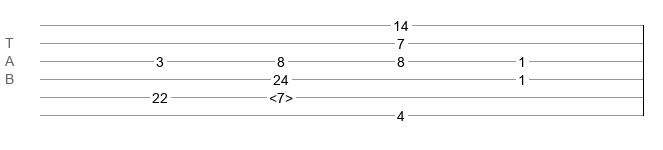1: (518, 72, 526, 82), (518, 54, 526, 64)
14: (393, 18, 409, 28)
22: (152, 90, 168, 100)
24: (273, 72, 289, 82)
3: (156, 54, 164, 64)
4: (397, 108, 405, 118)
7: (397, 36, 405, 46)
8: (277, 54, 285, 64), (397, 54, 405, 64)
harmonic: (269, 90, 293, 100)
